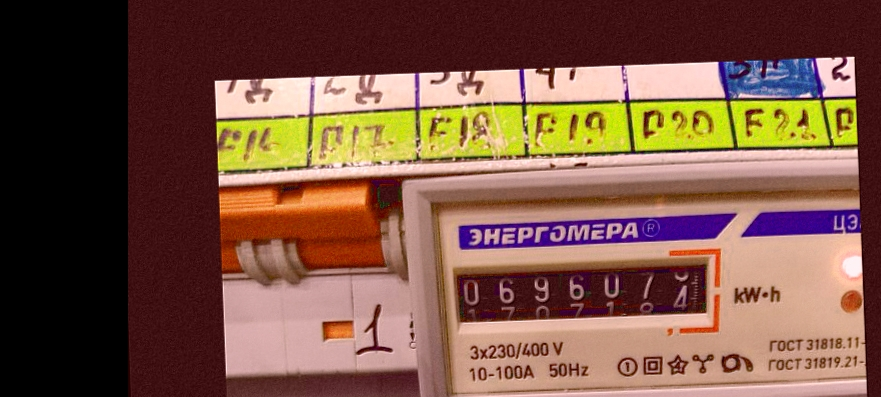0: (461, 276, 483, 307), (603, 270, 623, 300)
4: (670, 283, 690, 312)
6: (567, 272, 588, 303), (497, 275, 517, 305)
7: (637, 268, 657, 300)
9: (532, 274, 553, 304)
screen: (442, 241, 728, 344)
